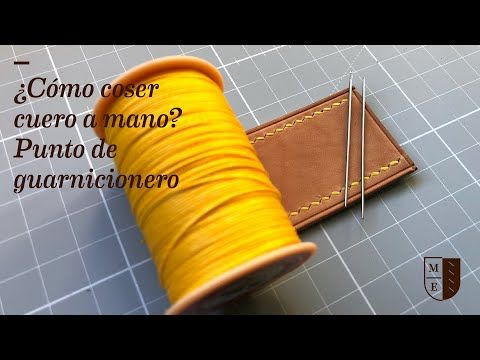cuero: (244, 86, 419, 230)
